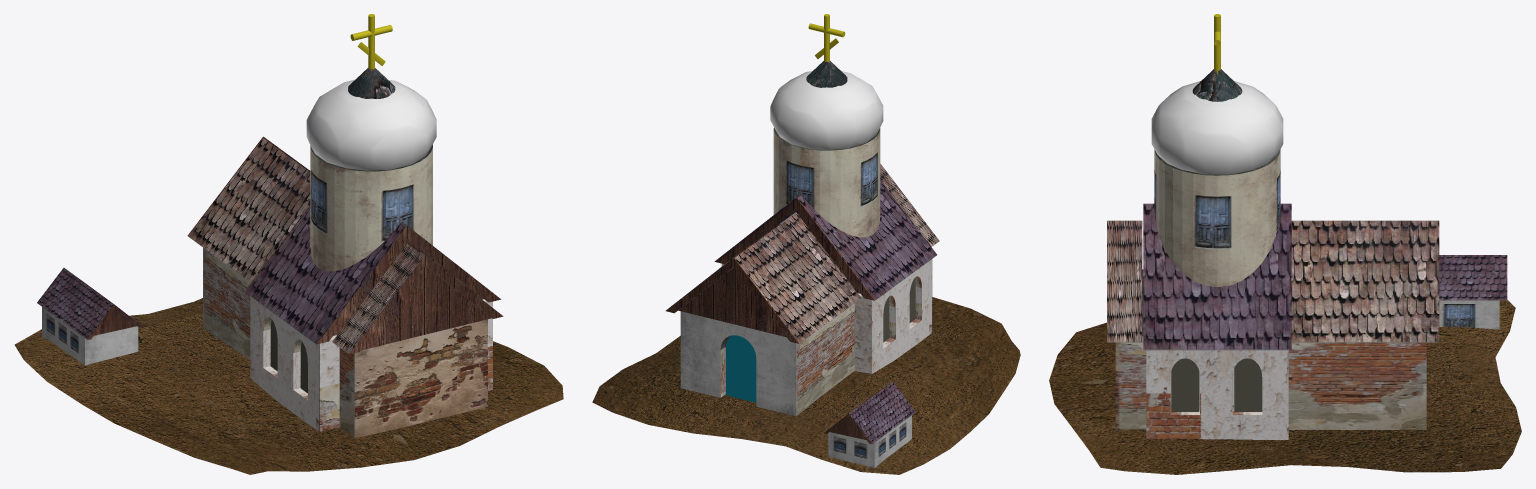
Rendered from церковь.fbx.
3 renders of one model, left to right at view 1: azimuth 30°, elevation 25°; view 2: azimuth 150°, elevation 25°; view 3: azimuth 270°, elevation 25°, orthographic. The views are drawn at different scales.
Visible parts, largest first — view 1: Плоскость, Cube, Cube.003, Цилиндр, Cube.001, МСфера, Cube.002, Куб, Cube.004, Куб.001, Конус; view 2: Плоскость, Cube.001, Cube, Цилиндр, Cube.003, МСфера, Куб, Cube.004, Куб.001, Цилиндр.004, Cube.002, Конус; view 3: Плоскость, Cube.001, Cube, Cube.003, Цилиндр, Куб, МСфера, Cube.002, Cube.004, Куб.001, Цилиндр.006, Цилиндр.005 (+1 smaller).
Part boxes in pixels (left/top/right/bottom): Плоскость: left=14, top=298, right=563, bottom=474; Cube: left=203, top=247, right=487, bottom=437; Cube.003: left=244, top=205, right=501, bottom=344; Цилиндр: left=310, top=145, right=432, bottom=271; Cube.001: left=187, top=136, right=310, bottom=282; МСфера: left=306, top=79, right=436, bottom=170; Cube.002: left=332, top=242, right=503, bottom=354; Куб: left=250, top=296, right=492, bottom=431; Cube.004: left=37, top=267, right=143, bottom=339; Куб.001: left=42, top=307, right=138, bottom=365; Конус: left=348, top=68, right=395, bottom=98; Плоскость: left=592, top=297, right=1020, bottom=474; Cube.001: left=665, top=212, right=861, bottom=343; Cube: left=680, top=304, right=854, bottom=416; Цилиндр: left=773, top=128, right=880, bottom=237; Cube.003: left=714, top=180, right=936, bottom=300; МСфера: left=770, top=71, right=883, bottom=149; Куб: left=721, top=259, right=932, bottom=373; Cube.004: left=824, top=381, right=915, bottom=443; Куб.001: left=828, top=415, right=911, bottom=468; Цилиндр.004: left=726, top=335, right=756, bottom=402; Cube.002: left=880, top=164, right=939, bottom=246; Конус: left=806, top=61, right=847, bottom=87; Плоскость: left=1049, top=300, right=1521, bottom=474; Cube.001: left=1291, top=220, right=1439, bottom=342; Cube: left=1115, top=269, right=1426, bottom=429; Cube.003: left=1143, top=203, right=1291, bottom=350; Цилиндр: left=1154, top=149, right=1280, bottom=287; Куб: left=1146, top=350, right=1288, bottom=439; МСфера: left=1151, top=81, right=1283, bottom=174; Cube.002: left=1107, top=220, right=1142, bottom=342; Cube.004: left=1439, top=255, right=1507, bottom=300; Куб.001: left=1439, top=300, right=1499, bottom=329; Цилиндр.006: left=1171, top=358, right=1199, bottom=411; Цилиндр.005: left=1234, top=358, right=1262, bottom=411.
Size of the model in its own units: 3728 by 3513 by 3852.
16 materials, 9 textured.
